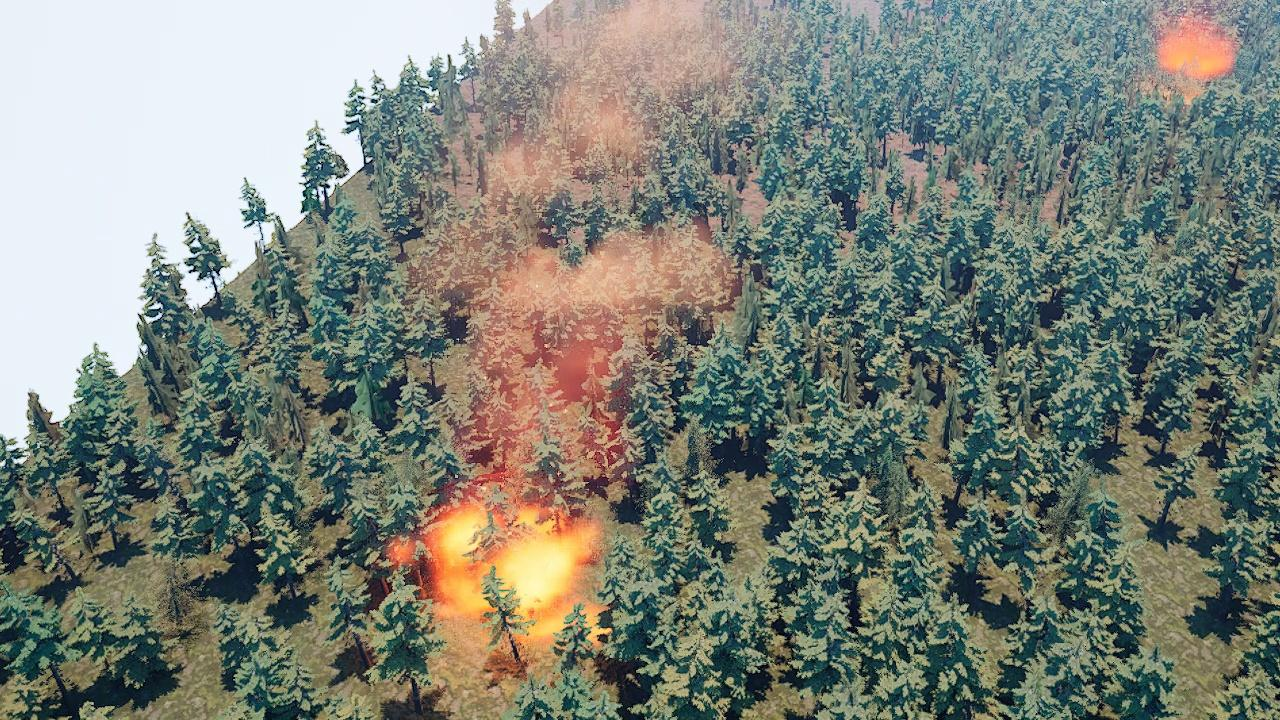fire: (426, 500, 591, 622)
smoke: (407, 0, 759, 494), (1153, 3, 1241, 82)
